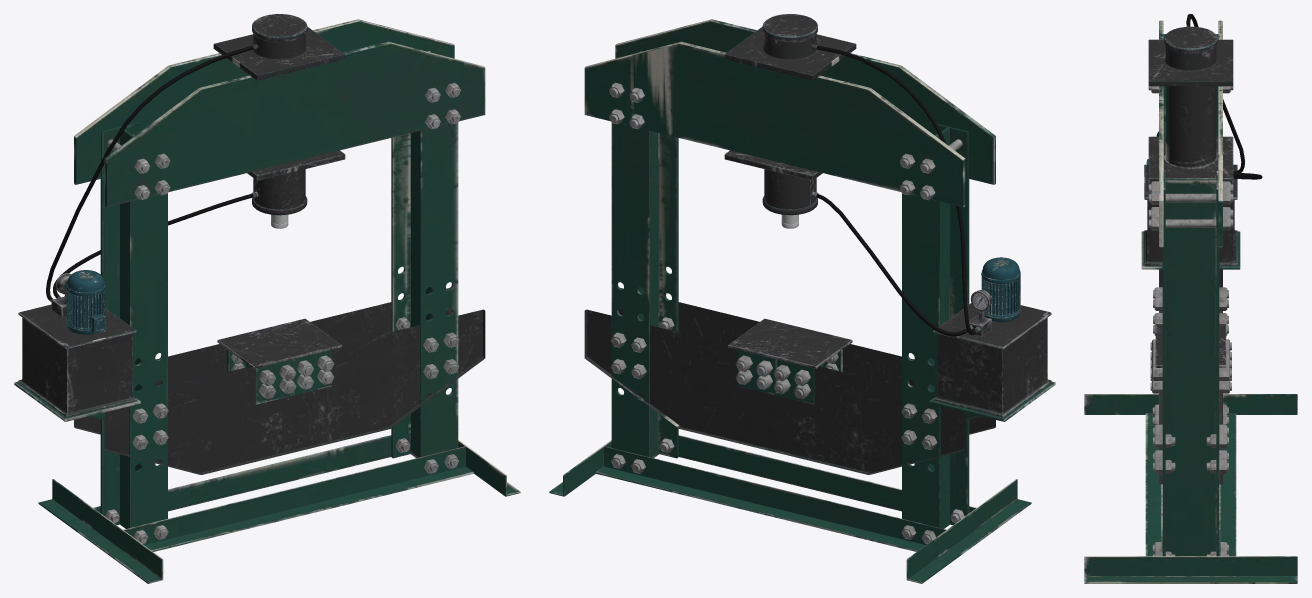
Rendered from servo_press.glb.
The picture shows the model from 3 angles, left to right: view 1: azimuth 30°, elevation 25°; view 2: azimuth 150°, elevation 25°; view 3: azimuth 270°, elevation 25°; orthographic projection. The views are drawn at different scales.
Parts seen in each view (by area): view 1: paint, black, bolt, Electric_motor, oil_pipeline; view 2: paint, black, bolt, oil_pipeline, Electric_motor; view 3: paint, black, bolt, oil_pipeline.
Boxes of the visible parts, box(x1,y1,x2,y2) form: paint: box(14, 19, 520, 583); black: box(18, 14, 485, 474); bolt: box(105, 82, 460, 543); Electric_motor: box(66, 270, 105, 334); oil_pipeline: box(46, 45, 253, 301); paint: box(549, 19, 1055, 583); black: box(584, 14, 1051, 474); bolt: box(609, 82, 964, 543); oil_pipeline: box(816, 45, 975, 336); Electric_motor: box(981, 257, 1020, 322); paint: box(1084, 20, 1297, 583); black: box(1144, 26, 1237, 484); bolt: box(1148, 86, 1233, 556); oil_pipeline: box(1186, 14, 1262, 179).
Size of the model in its own units: 2.37 by 2.5 by 1.05.
1 material, 1 textured.
